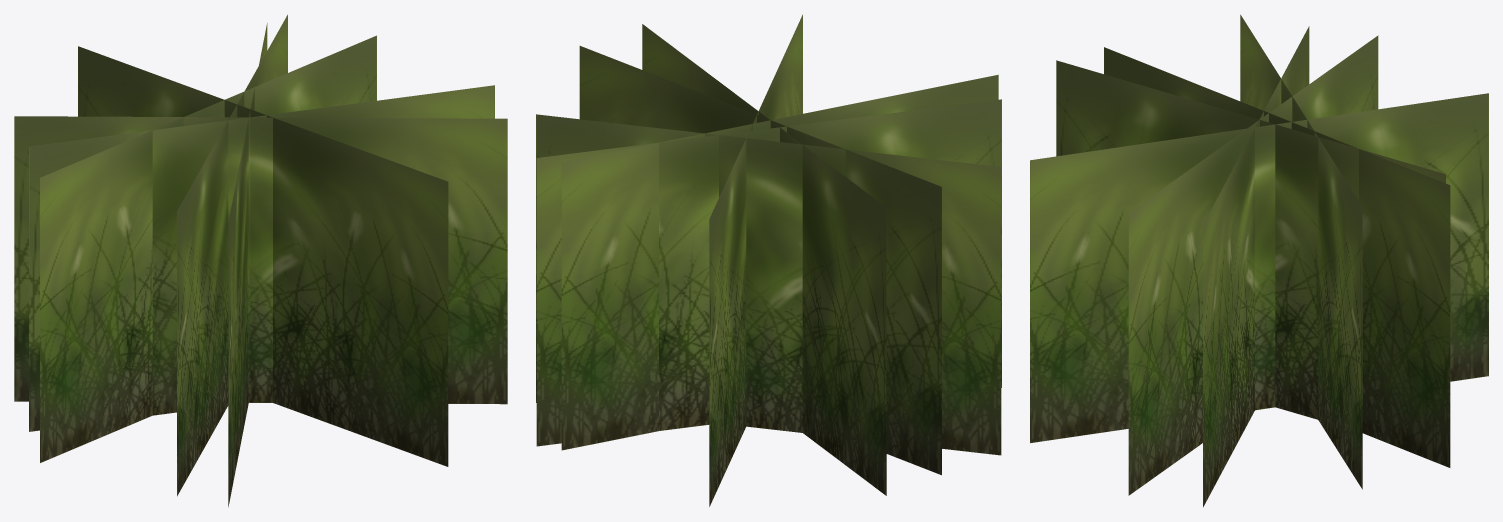
The model's file is Model_Grass_02.fbx.
3 renders of one model, left to right at view 1: azimuth 30°, elevation 25°; view 2: azimuth 150°, elevation 25°; view 3: azimuth 270°, elevation 25°, orthographic.
Parts seen in each view (by area): view 1: Grass_High; view 2: Grass_High; view 3: Grass_High.
Part boxes in pixels (x1,y1,x2,y2): Grass_High: (14,14,507,507); Grass_High: (536,14,1001,506); Grass_High: (1030,14,1488,507).
Bounding box in the file's own units: 134 × 84.04 × 124.
